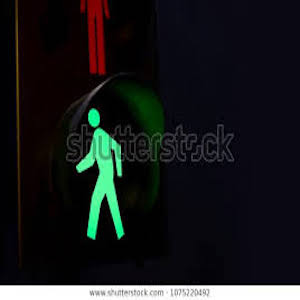green: (71, 107, 137, 239)
